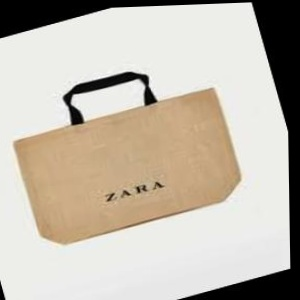zara: (118, 85, 238, 255)
